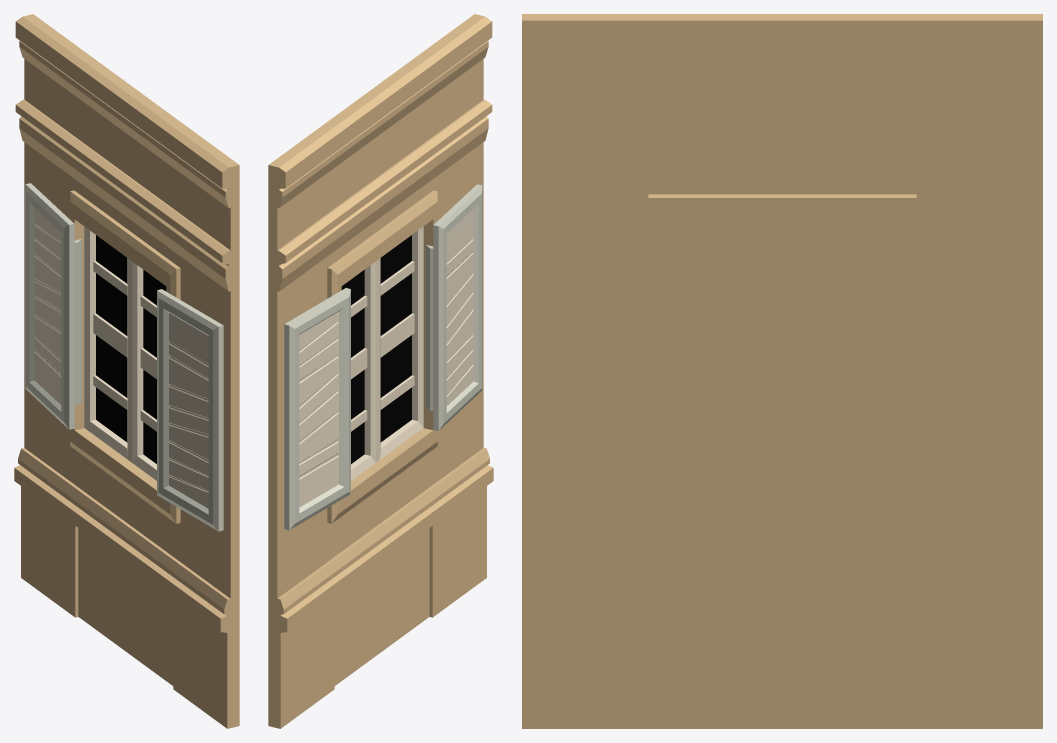
Rendered from 3_WallHole_3_A.fbx.
The picture shows the model from 3 angles, left to right: view 1: azimuth 30°, elevation 25°; view 2: azimuth 150°, elevation 25°; view 3: azimuth 270°, elevation 25°; orthographic projection. The views are drawn at different scales.
Parts seen in each view (by area): view 1: WallHole_3_A; view 2: WallHole_3_A; view 3: WallHole_3_A.
Part boxes in pixels (box(x1,y1,x2,y2)): WallHole_3_A: box(14, 14, 239, 728); WallHole_3_A: box(268, 14, 493, 728); WallHole_3_A: box(522, 14, 1042, 728).
Bounding box in the file's own units: 17.28 × 200 × 300.
